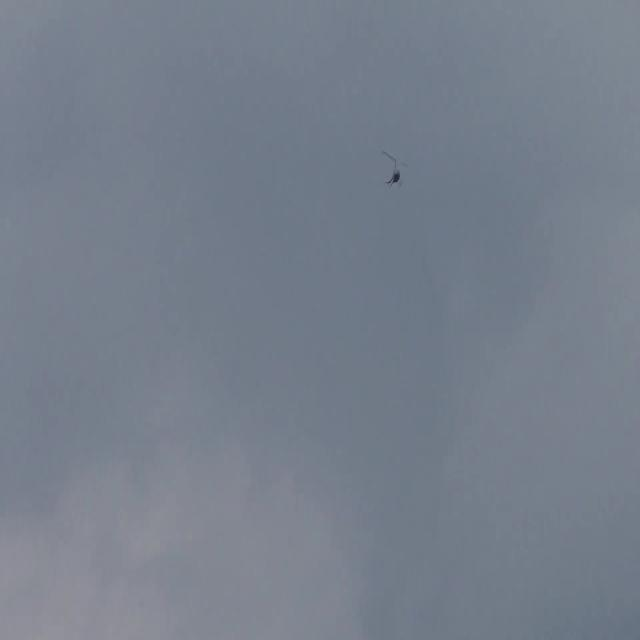CIV_HELO: (385, 158, 403, 188)
